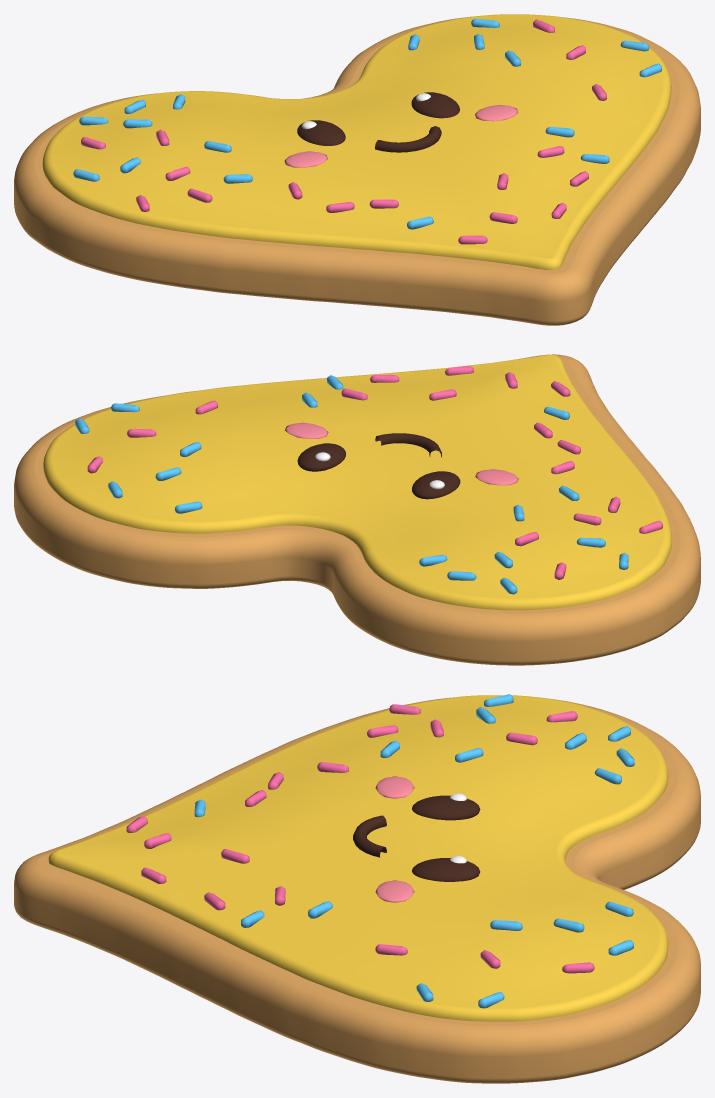
The model's file is HeartCookie.obj.
3 renders of one model, top to bottom at view 1: azimuth 30°, elevation 25°; view 2: azimuth 150°, elevation 25°; view 3: azimuth 270°, elevation 25°, orthographic. The views are drawn at different scales.
Parts seen in each view (by area): view 1: Icing, Cookie, Sprinkles2, Sprinkles, Face, Cheeks; view 2: Icing, Cookie, Sprinkles, Sprinkles2, Face, Cheeks; view 3: Icing, Cookie, Sprinkles, Sprinkles2, Face, Cheeks.
Part boxes in pixels (x1,y1,x2,y2): Icing: (42, 14, 671, 269); Cookie: (14, 16, 700, 325); Sprinkles2: (73, 18, 661, 229); Sprinkles: (81, 19, 606, 244); Face: (297, 92, 459, 152); Cheeks: (284, 105, 518, 167); Icing: (43, 354, 671, 610); Cookie: (14, 354, 700, 665); Sprinkles: (87, 366, 662, 579); Sprinkles2: (75, 375, 628, 594); Face: (297, 433, 460, 499); Cheeks: (284, 422, 518, 485); Icing: (48, 695, 668, 1021); Cookie: (14, 697, 700, 1083); Sprinkles: (126, 704, 594, 973); Sprinkles2: (194, 694, 634, 1008); Face: (353, 795, 480, 881); Cheeks: (375, 776, 414, 902).
Size of the model in its own units: 10.54 by 1.18 by 8.79.
